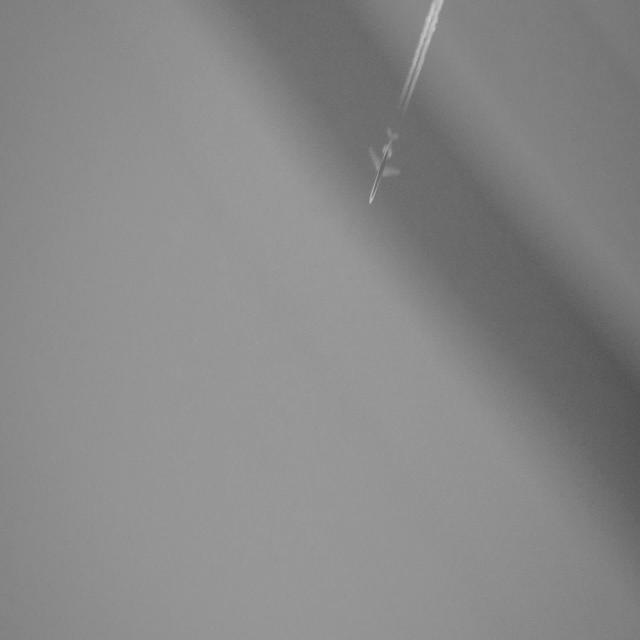aeroplane: (367, 121, 404, 216)
